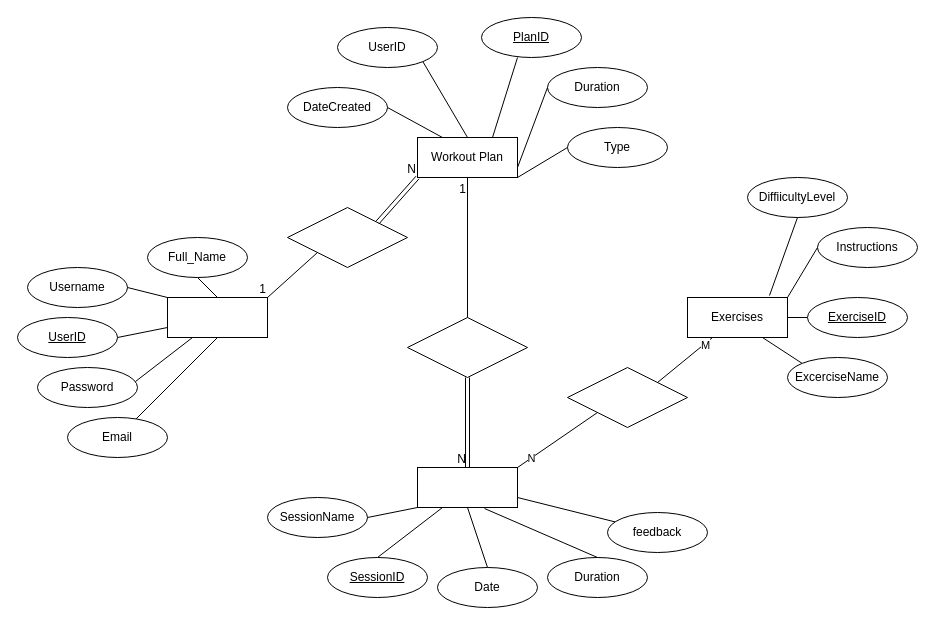
The diagram is 935 pixels wide and 625 high, and some of its shapes have lost their labels. Each missing label, with the centre of its shape:
"Consists of" goes at point 467,347.
"Creates" goes at point 347,237.
"Includes" goes at point 627,397.
"Session" goes at point 467,487.
"User" goes at point 217,317.
